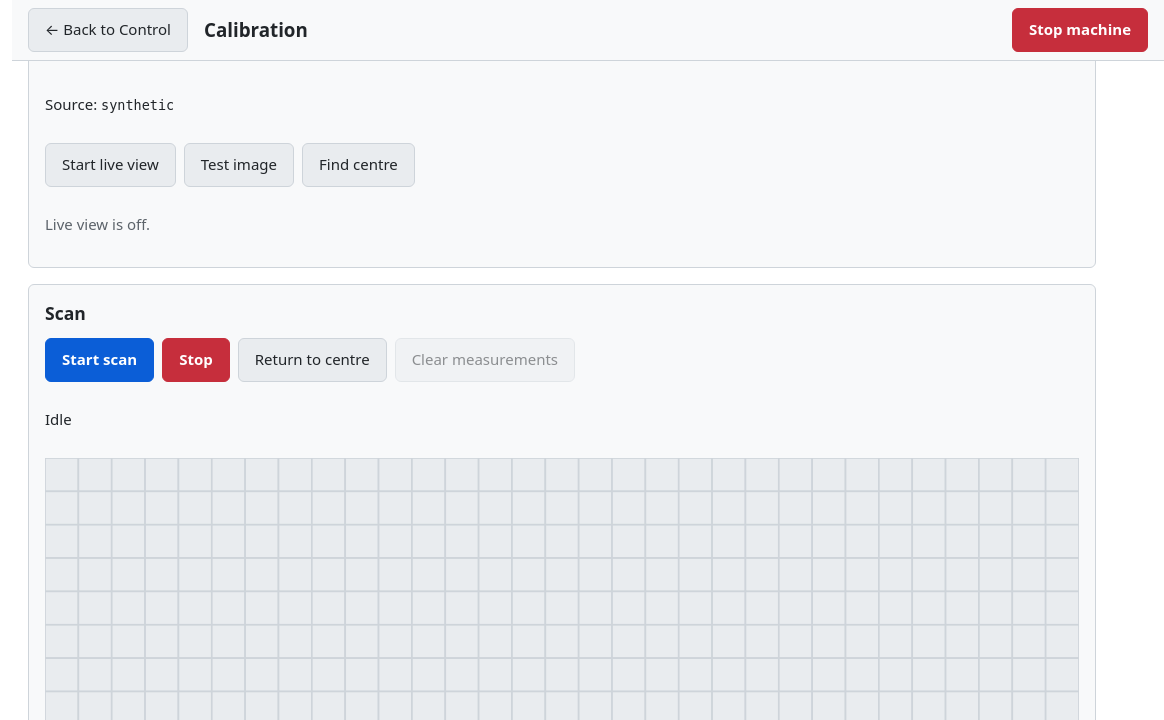
Test case: optical scan › starts a scan with the form's settings
(page scrolled)
Click the button "Start scan" at (100, 360), box [45,338,154,382]
(page scrolled)
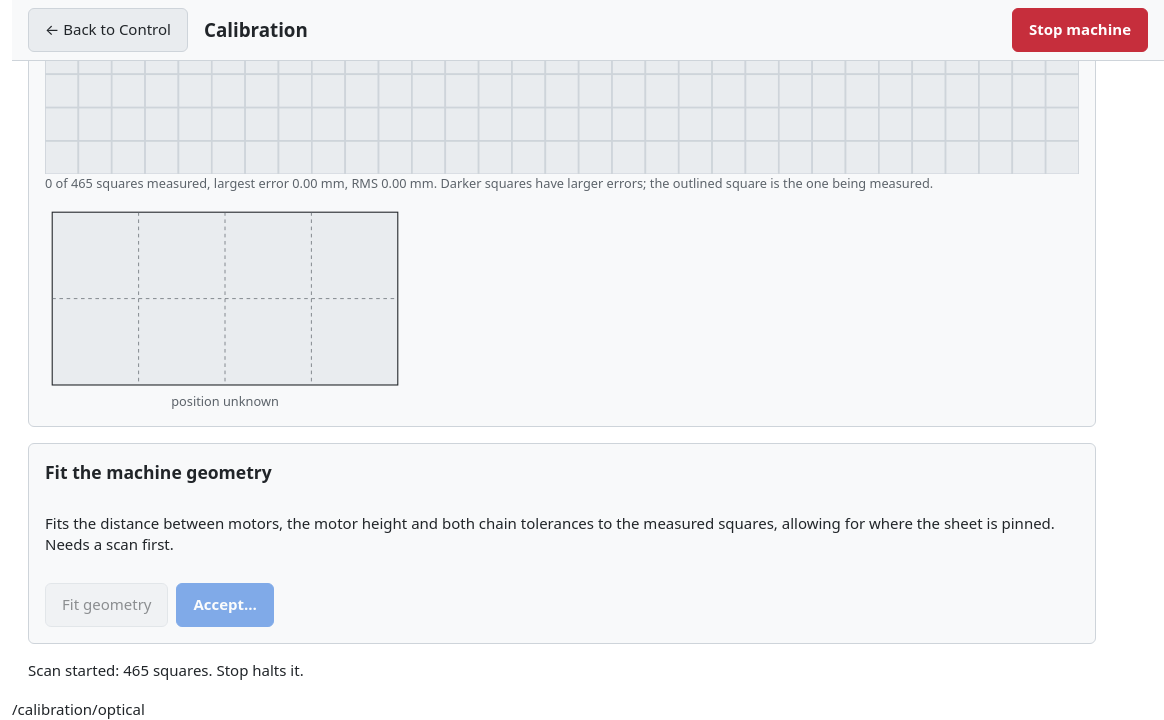
Now the message named "Calibration status" shows "Scan started: 465 squares.", box [28,660,304,680]
